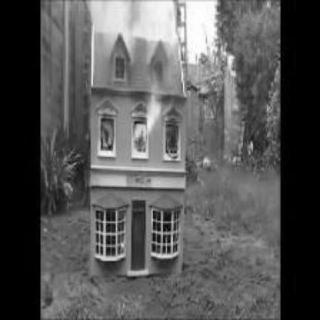Fire: (132, 90, 164, 143), (99, 116, 113, 150)
